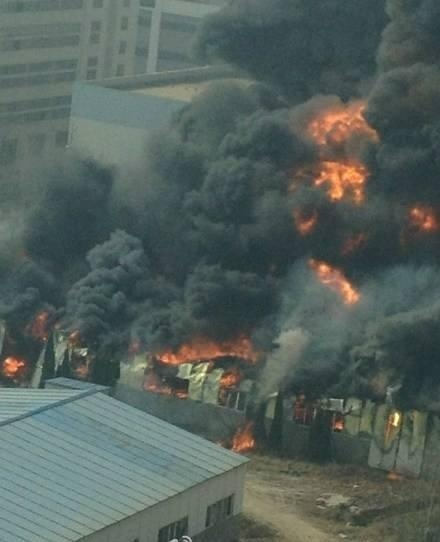fire: (147, 338, 256, 394), (310, 102, 371, 147), (314, 158, 367, 198), (312, 261, 358, 303), (232, 425, 257, 450), (1, 355, 26, 375)
